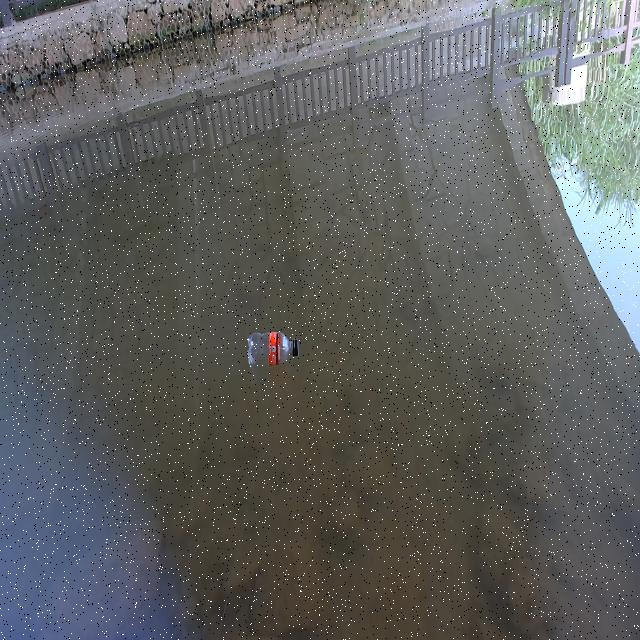Bottle: (246, 326, 301, 372)
